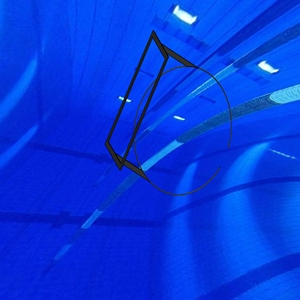circle: (104, 29, 234, 197)
